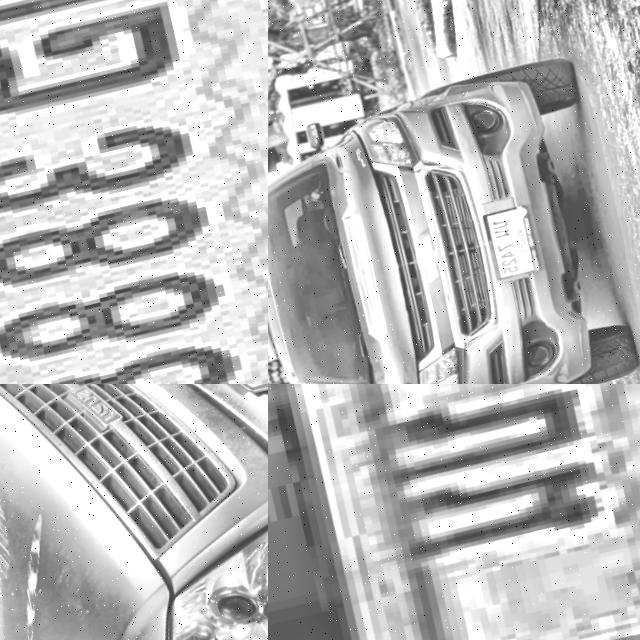license-plate: (0, 0, 268, 384), (268, 384, 640, 640), (478, 201, 547, 283)
